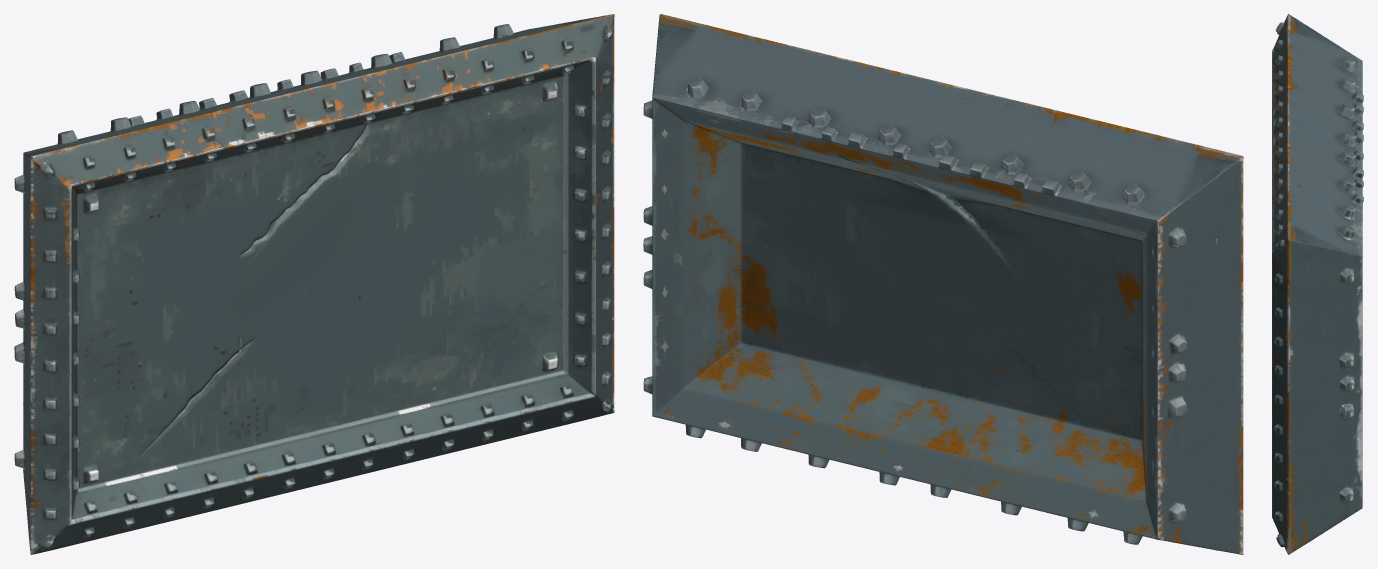
The model's file is hatch_2.glb.
3 renders of one model, left to right at view 1: azimuth 30°, elevation 25°; view 2: azimuth 150°, elevation 25°; view 3: azimuth 270°, elevation 25°, orthographic. The views are drawn at different scales.
Size of the model in its own units: 1.9 by 1.24 by 0.3272.
Materials: 1 (1 with a texture image).
